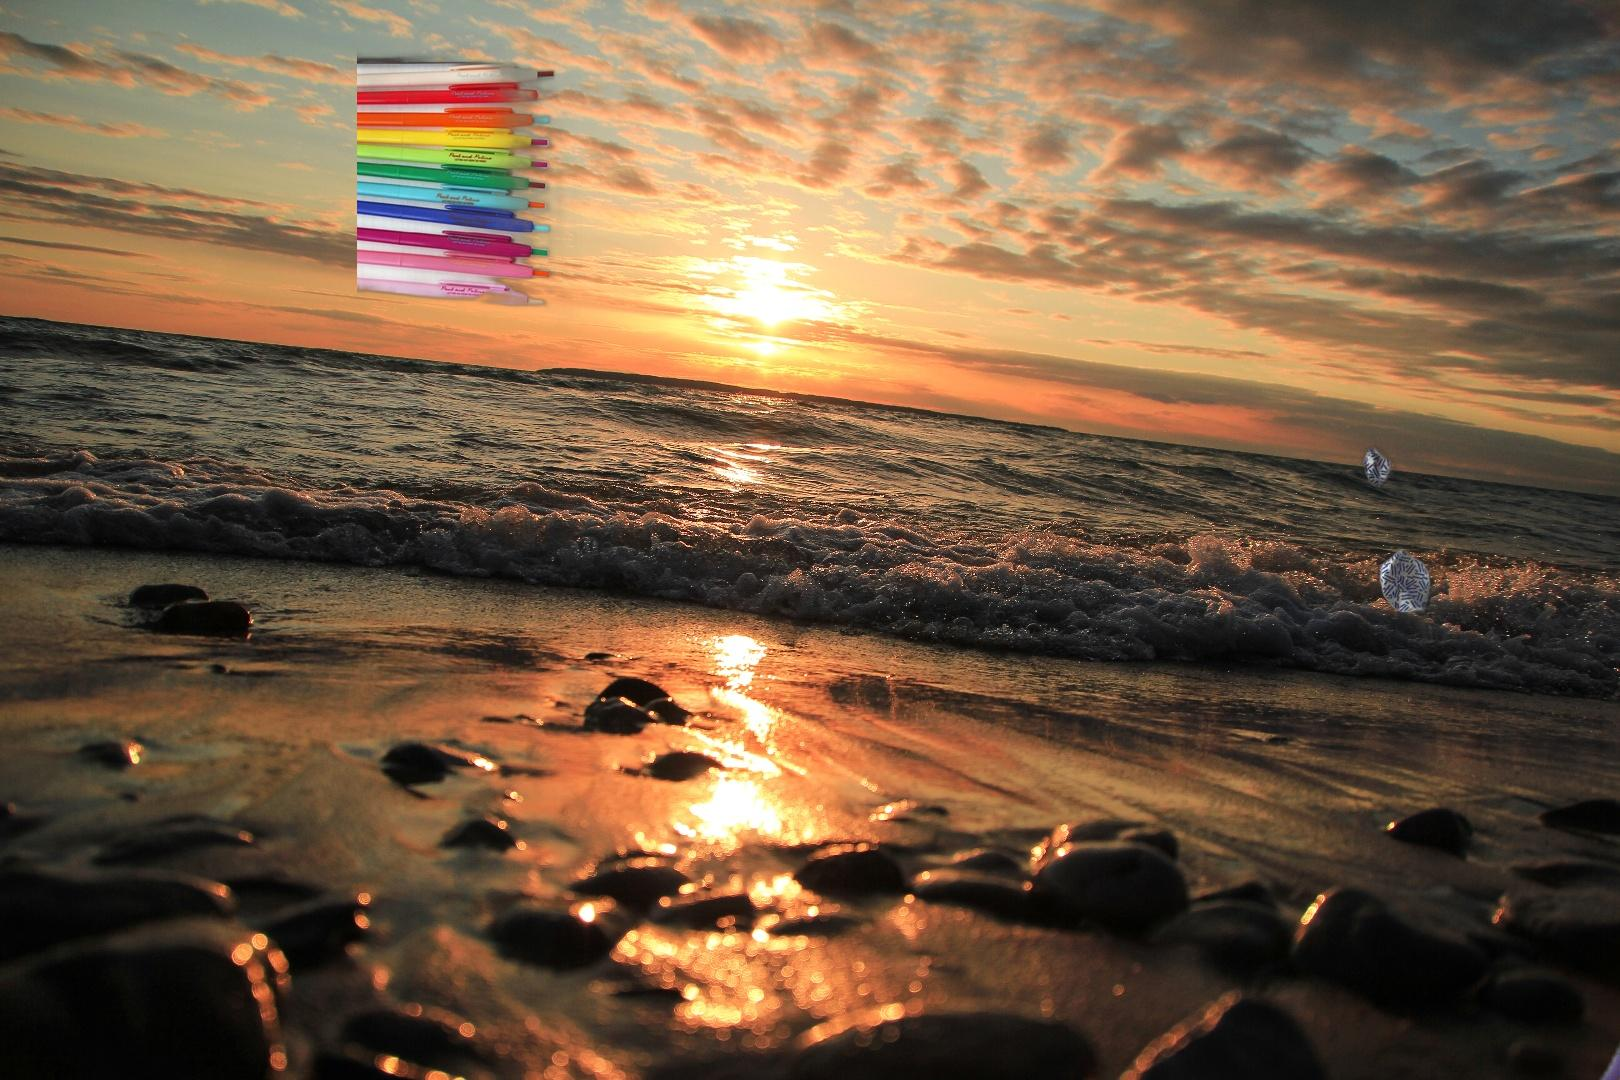paper: (1358, 416, 1439, 668)
penholder: (357, 10, 582, 333)
trashbox-cardboard: (1468, 859, 1620, 1080), (1601, 364, 1620, 749)
